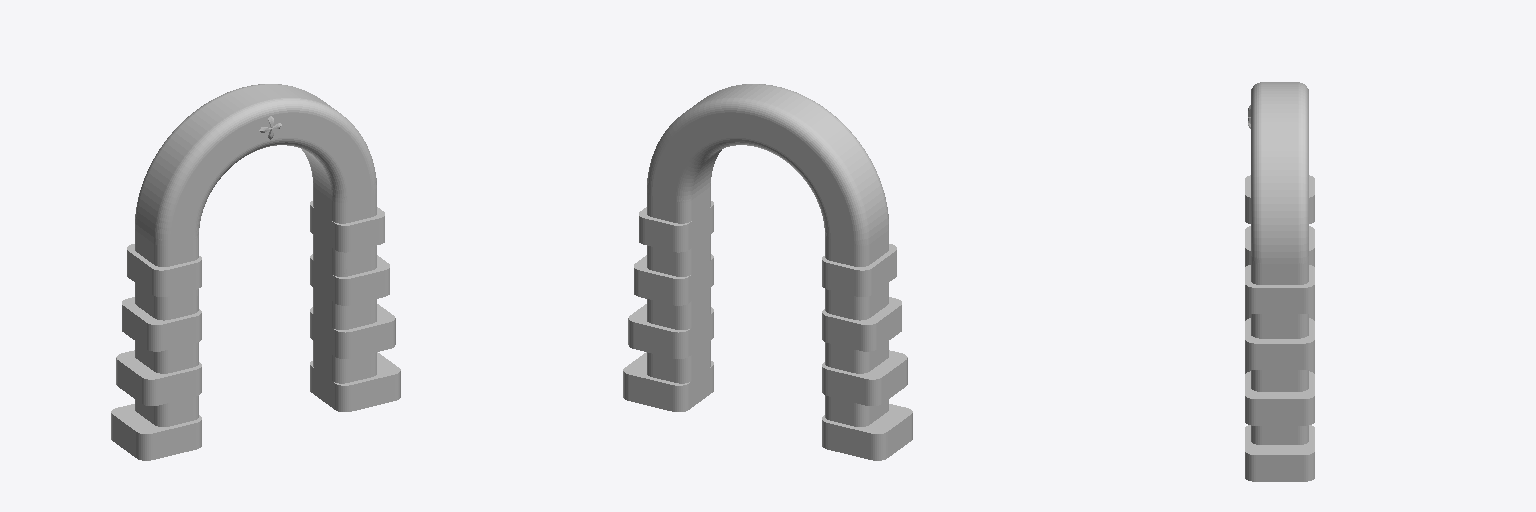
File: door.obj
3 renders of one model, left to right at view 1: azimuth 30°, elevation 25°; view 2: azimuth 150°, elevation 25°; view 3: azimuth 270°, elevation 25°, orthographic.
Parts seen in each view (by area): view 1: Door_Door.001; view 2: Door_Door.001; view 3: Door_Door.001.
Part boxes in pixels (left/top/right/bottom): Door_Door.001: left=111, top=84, right=400, bottom=460; Door_Door.001: left=623, top=84, right=912, bottom=460; Door_Door.001: left=1245, top=82, right=1314, bottom=481.
Bounding box in the file's own units: 5.16 × 6.07 × 1.2.